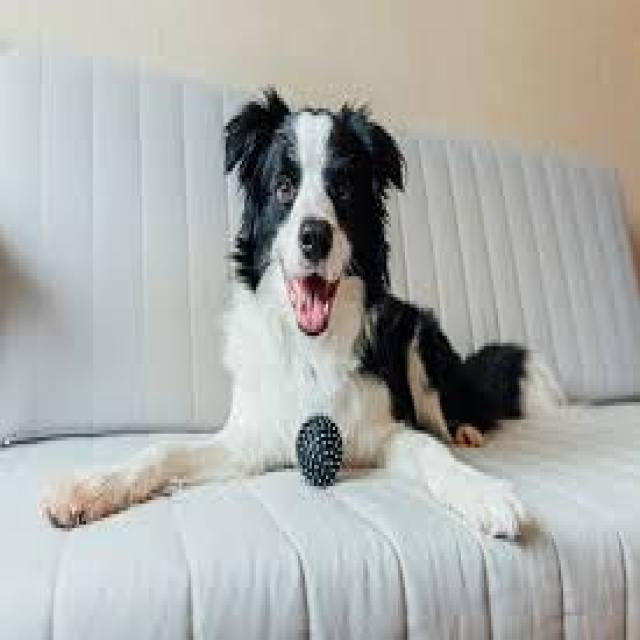BORDER_COLLIE: (52, 85, 570, 555)
